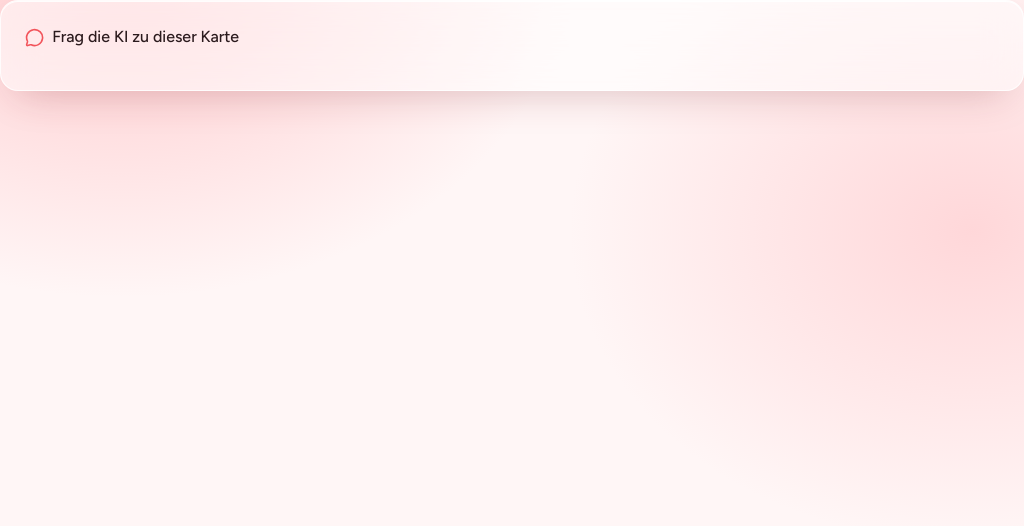
Test: CardChat › sends the conversation with answer and check and shows the reply
The width and height of the screenshot is (1024, 526).
Click the heading "Frag die KI zu dieser Karte".
click(132, 37)  # box [25, 27, 239, 47]
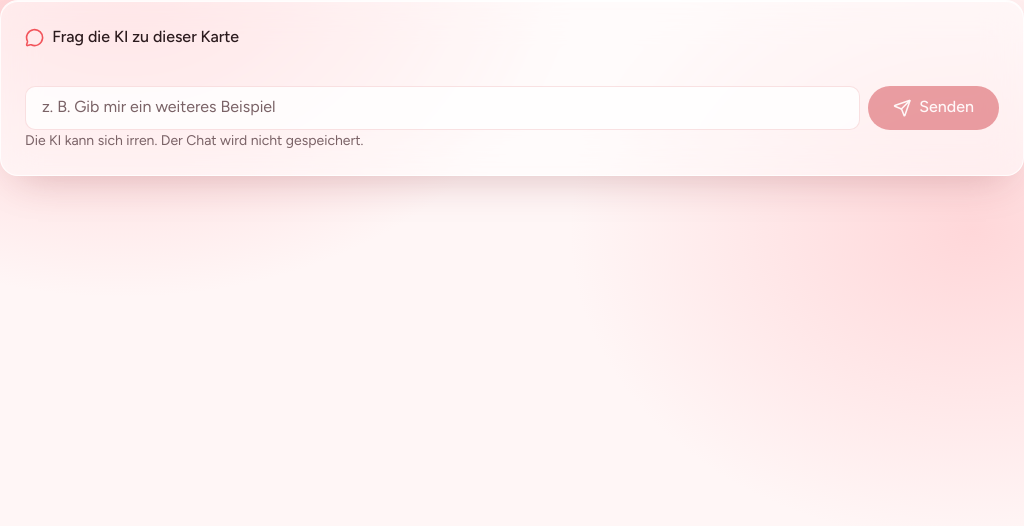
Type "Warum?" into the field named "Frage an die KI".
click(442, 108); type("Warum?")  # box [25, 86, 860, 130]
Then press Enter
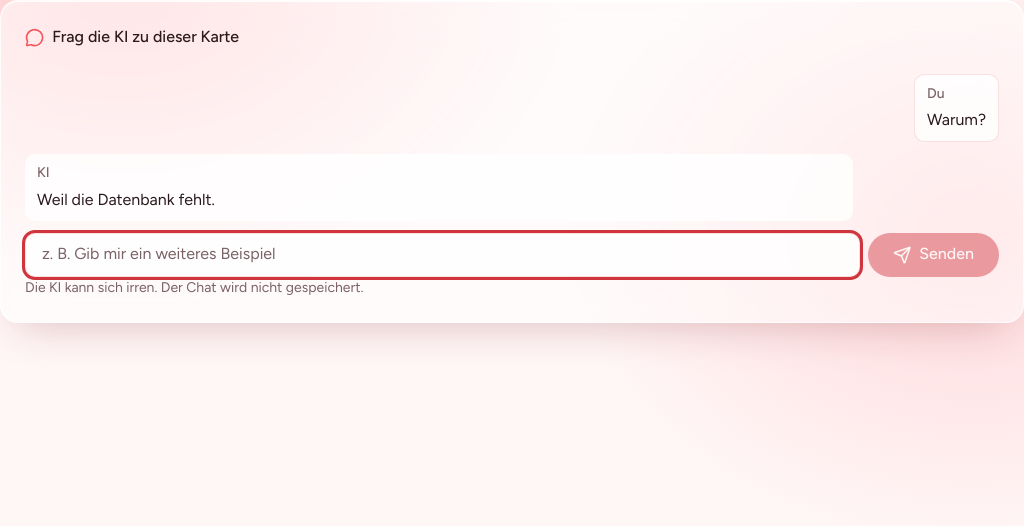
Check: the text "Weil die Datenbank fehlt." is shown, box [37, 190, 215, 209]
Type "Danke" into the field named "Frage an die KI".
click(442, 255); type("Danke")  # box [25, 233, 860, 277]
Then press Enter
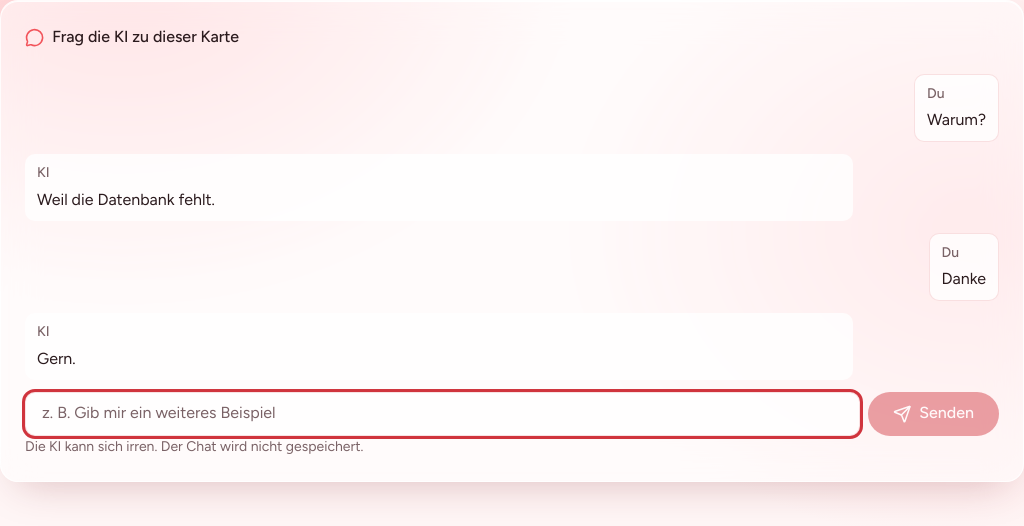
Check: the field named "Frage an die KI" is empty, box [25, 392, 860, 436]
Check: the text "Gern." is shown, box [37, 349, 76, 368]
